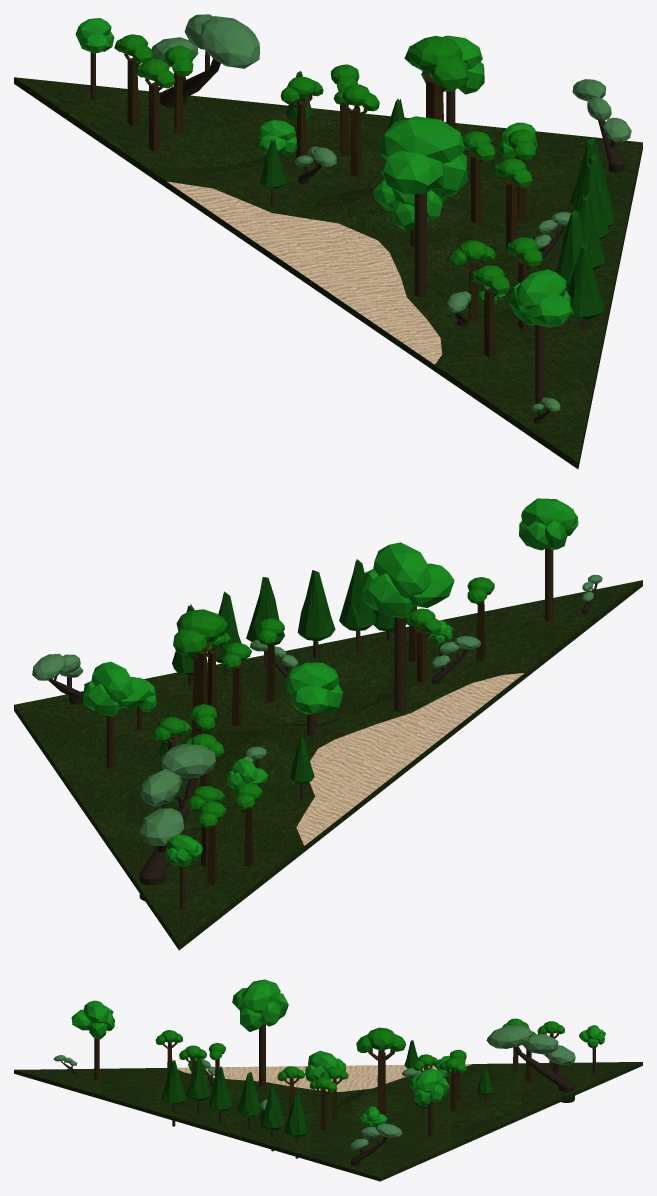
File: Grassy Area.glb
The picture shows the model from 3 angles, top to bottom: view 1: azimuth 30°, elevation 25°; view 2: azimuth 150°, elevation 25°; view 3: azimuth 270°, elevation 25°; orthographic projection. The views are drawn at different scales.
Visible parts, largest first — view 1: Ground, Trees; view 2: Ground, Trees; view 3: Ground, Trees.
Part boxes in pixels (x1,y1,x2,y2): Ground: (14, 77, 642, 469); Trees: (75, 14, 631, 423); Ground: (14, 580, 642, 950); Trees: (32, 498, 602, 909); Ground: (14, 1062, 642, 1181); Trees: (53, 979, 605, 1165).
Size of the model in its own units: 19.57 by 9.36 by 44.9.
Materials: 10 (2 with a texture image).
